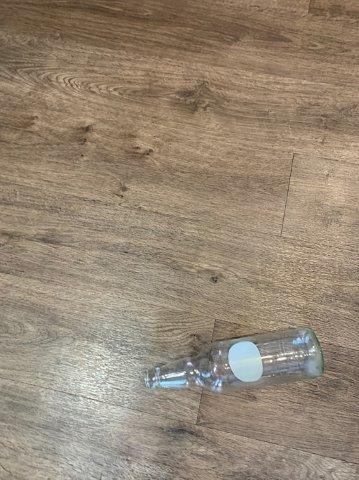botolkaca: (145, 328, 325, 393)
